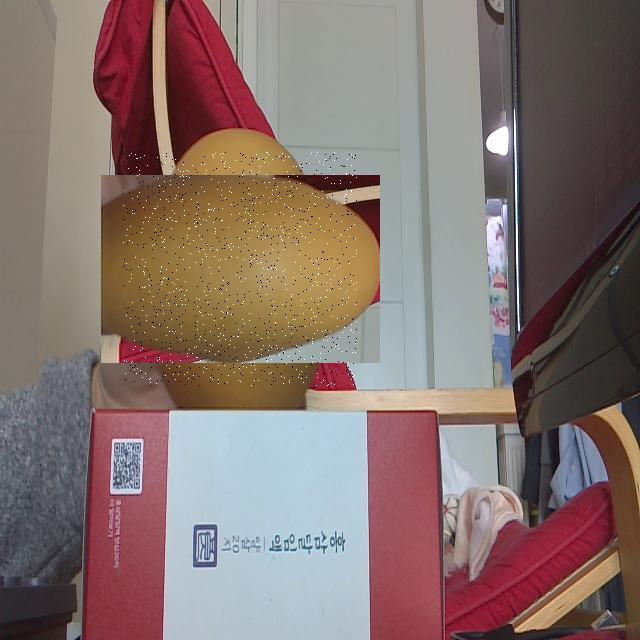pear: (123, 152, 357, 386)
